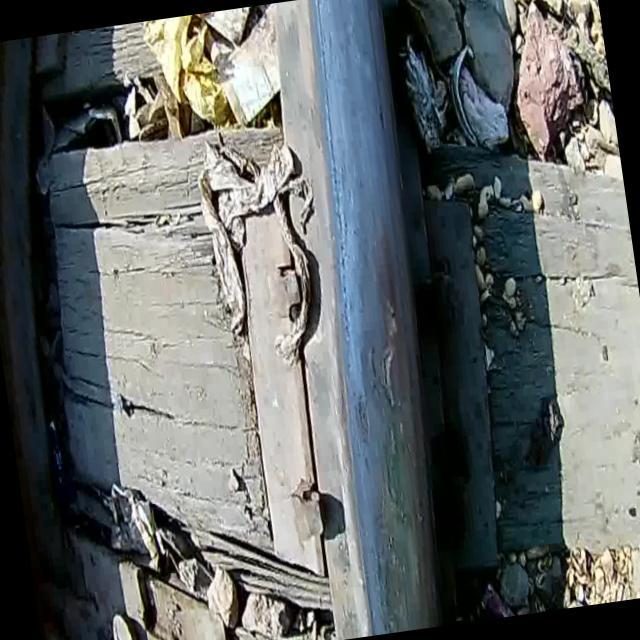Squats: (256, 0, 493, 640)
